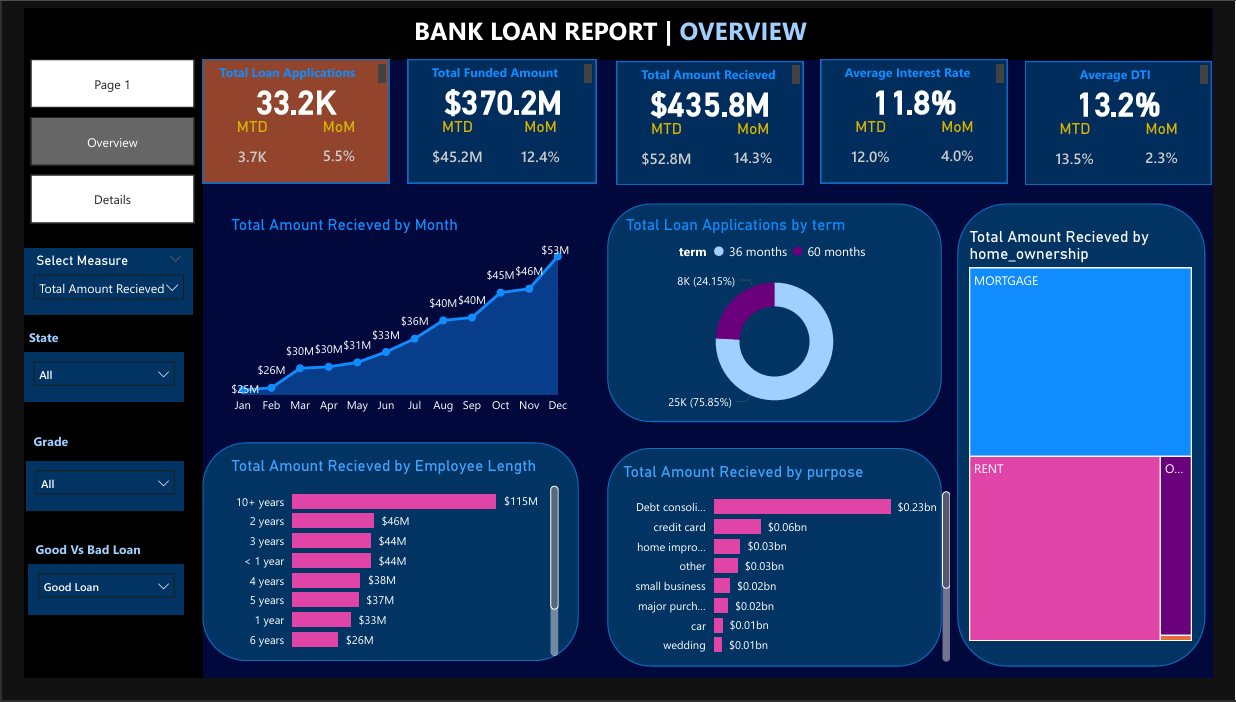

This screenshot's page, from the dashboard's own definition file:
{"tool":"powerbi","page":{"name":"Overview","canvas":[1280,720],"ordinal":1},"visuals":[{"type":"shape","box":[0,55.3,192,665.3],"z":0},{"type":"shape","box":[192,55.3,201.2,133],"z":0,"group":"g1"},{"type":"shape","box":[413.3,55.3,202.9,133],"z":0,"group":"g2"},{"type":"shape","box":[858.6,55.3,201.2,133],"z":0,"group":"g4"},{"type":"shape","box":[638.6,57,201.2,133],"z":0,"group":"g3"},{"type":"shape","box":[1078.6,57,201.2,133],"z":0,"group":"g5"},{"type":"shape","box":[0,0,1279.4,54.8],"z":1000},{"type":"card","fields":{"Values":["financial_loan (1).Total Loan Applicationa"]},"box":[191.7,55,201.3,86.4],"z":1000,"group":"g1"},{"type":"card","fields":{"Values":["financial_loan (1).Avg Intrest RATE"]},"box":[858.3,55,201.3,86.4],"z":1000,"group":"g4"},{"type":"card","fields":{"Values":["financial_loan (1).Total Funded Amount"]},"box":[416.4,56.2,198.8,85],"z":1000,"group":"g2"},{"type":"card","fields":{"Values":["financial_loan (1).Total Amount Recieved"]},"box":[638.3,56.7,201.3,86.4],"z":1000,"group":"g3"},{"type":"card","fields":{"Values":["financial_loan (1).Avg dti"]},"box":[1078.3,56.7,201.3,86.4],"z":1000,"group":"g5"},{"type":"textbox","box":[415,0,618.3,55],"z":2000},{"type":"textbox","box":[192,55,201.3,29.9],"z":2000,"group":"g1"},{"type":"textbox","box":[413.4,55,203.1,29.9],"z":2000,"group":"g2"},{"type":"textbox","box":[858.6,55,201.3,29.9],"z":2000,"group":"g4"},{"type":"textbox","box":[638.6,56.7,201.3,29.9],"z":2000,"group":"g3"},{"type":"textbox","box":[1078.6,56.7,201.3,29.9],"z":2000,"group":"g5"},{"type":"group","id":"g1","title":"Group 1","box":[191.7,55,201.7,133.3],"z":3000},{"type":"card","title":"MTD","fields":{"Values":["financial_loan (1).MTD Loan Applications"]},"box":[192.2,116.5,105.5,71.5],"z":3000,"group":"g1"},{"type":"card","title":"MTD","fields":{"Values":["financial_loan (1).MTD Funded Amount"]},"box":[413.6,116.5,106.4,71.5],"z":3000,"group":"g2"},{"type":"card","title":"MTD","fields":{"Values":["financial_loan (1).MTD Avg Intrest rate"]},"box":[858.8,116.5,105.5,71.5],"z":3000,"group":"g4"},{"type":"card","title":"MTD","fields":{"Values":["financial_loan (1).MTD Total Amount Recieved"]},"box":[638.8,118.2,105.5,71.5],"z":3000,"group":"g3"},{"type":"card","title":"MTD","fields":{"Values":["financial_loan (1).MTD Avg dti"]},"box":[1078.8,118.2,105.5,71.5],"z":3000,"group":"g5"},{"type":"group","id":"g2","title":"Group 1","box":[413.3,55,203.3,133.3],"z":4000},{"type":"card","title":"MoM","fields":{"Values":["financial_loan (1).MoM Loan Aplications"]},"box":[303.9,116.7,70,68.3],"z":4000,"group":"g1"},{"type":"card","title":"MoM","fields":{"Values":["financial_loan (1).MoM Funded Amount"]},"box":[520.3,116.7,71.7,71.7],"z":4000,"group":"g2"},{"type":"card","title":"MoM","fields":{"Values":["financial_loan (1).MoM Avg Intrest rate"]},"box":[970.5,116.7,70,68.3],"z":4000,"group":"g4"},{"type":"card","title":"MoM","fields":{"Values":["financial_loan (1).MoM Total Amount Recieved"]},"box":[750.5,118.4,70,68.3],"z":4000,"group":"g3"},{"type":"card","title":"MoM","fields":{"Values":["financial_loan (1).MoM Avg dti"]},"box":[1190.5,118.4,70,68.3],"z":4000,"group":"g5"},{"type":"shape","box":[191.7,466.7,405,235],"z":5000},{"type":"group","id":"g3","title":"Group 1","box":[638.3,56.7,203.3,133.3],"z":6000},{"type":"group","id":"g4","title":"Group 1","box":[858.3,55,200,133.3],"z":7000},{"type":"group","id":"g5","title":"Group 1","box":[1078.3,56.7,201.7,133.3],"z":8000},{"type":"slicer","fields":{"Values":["financial_loan (1).address_state"]},"box":[0,370,171.7,53.3],"z":9000},{"type":"textbox","box":[0,340,171.7,30],"z":10000},{"type":"slicer","fields":{"Values":["financial_loan (1).grade"]},"box":[1.7,486.7,170,53.3],"z":11000},{"type":"slicer","fields":{"Values":["financial_loan (1).Good vs Bad Loan"]},"box":[5,598.3,166.7,53.3],"z":12000},{"type":"textbox","box":[6.7,568.3,171.7,30],"z":13000},{"type":"textbox","box":[5,451.7,171.7,30],"z":14000},{"type":"areaChart","fields":{"Category":["Date Table.Month"],"Y":["financial_loan (1).Total Amount Recieved"]},"box":[218.3,221.7,373.3,223.3],"z":15000},{"type":"slicer","fields":{"Values":["Select Measure.Select Measure"]},"box":[0,258.3,181.7,71.7],"z":16000},{"type":"shape","box":[628.3,210,360,235],"z":17000},{"type":"donutChart","fields":{"Category":["financial_loan (1).term"],"Y":["financial_loan (1).Total Loan Applications"]},"box":[643.3,221.7,330,223.3],"z":18000},{"type":"barChart","fields":{"Category":["financial_loan (1).emp_length"],"Y":["financial_loan (1).Total Amount Recieved"]},"box":[218.3,481.7,361.7,220],"z":19000},{"type":"shape","box":[628.3,473.3,360,235],"z":20000},{"type":"shape","box":[1005,210,266.7,498.3],"z":21000},{"type":"barChart","fields":{"Y":["financial_loan (1).Total Amount Recieved"],"Category":["financial_loan (1).purpose"]},"box":[640,488.3,361.7,220],"z":22000},{"type":"treemap","fields":{"Group":["financial_loan (1).home_ownership"],"Values":["financial_loan (1).Total Amount Recieved"]},"box":[1013.3,235,248.3,450],"z":23000},{"type":"pageNavigator","box":[6.7,55,176.7,176.7],"z":23001}]}

Visuals, with their boxes in screenshot pixels (x1, y1, x2, y2), scaled from the page's 1280x720 canvas onto the 1236x702 screenshot:
shape: bbox(0, 54, 185, 701)
shape: bbox(185, 54, 380, 184)
shape: bbox(399, 54, 595, 184)
shape: bbox(829, 54, 1023, 184)
shape: bbox(617, 56, 811, 185)
shape: bbox(1042, 56, 1235, 185)
shape: bbox(0, 0, 1235, 53)
card - financial_loan (1).Total Loan Applicationa: bbox(185, 54, 379, 138)
card - financial_loan (1).Avg Intrest RATE: bbox(829, 54, 1023, 138)
card - financial_loan (1).Total Funded Amount: bbox(402, 55, 594, 138)
card - financial_loan (1).Total Amount Recieved: bbox(616, 55, 811, 140)
card - financial_loan (1).Avg dti: bbox(1041, 55, 1235, 140)
textbox: bbox(401, 0, 998, 54)
textbox: bbox(185, 54, 380, 83)
textbox: bbox(399, 54, 595, 83)
textbox: bbox(829, 54, 1023, 83)
textbox: bbox(617, 55, 811, 84)
textbox: bbox(1042, 55, 1235, 84)
"Group 1" group: bbox(185, 54, 380, 184)
"MTD" card: bbox(186, 114, 287, 183)
"MTD" card: bbox(399, 114, 502, 183)
"MTD" card: bbox(829, 114, 931, 183)
"MTD" card: bbox(617, 115, 719, 185)
"MTD" card: bbox(1042, 115, 1144, 185)
"Group 1" group: bbox(399, 54, 595, 184)
"MoM" card: bbox(293, 114, 361, 180)
"MoM" card: bbox(502, 114, 572, 184)
"MoM" card: bbox(937, 114, 1005, 180)
"MoM" card: bbox(725, 115, 792, 182)
"MoM" card: bbox(1150, 115, 1217, 182)
shape: bbox(185, 455, 576, 684)
"Group 1" group: bbox(616, 55, 813, 185)
"Group 1" group: bbox(829, 54, 1022, 184)
"Group 1" group: bbox(1041, 55, 1235, 185)
slicer - financial_loan (1).address_state: bbox(0, 361, 166, 413)
textbox: bbox(0, 332, 166, 361)
slicer - financial_loan (1).grade: bbox(2, 475, 166, 526)
slicer - financial_loan (1).Good vs Bad Loan: bbox(5, 583, 166, 635)
textbox: bbox(6, 554, 172, 583)
textbox: bbox(5, 440, 171, 470)
areaChart - Date Table.Month x financial_loan (1).Total Amount Recieved: bbox(211, 216, 571, 434)
slicer - Select Measure.Select Measure: bbox(0, 252, 175, 322)
shape: bbox(607, 205, 954, 434)
donutChart - financial_loan (1).term x financial_loan (1).Total Loan Applications: bbox(621, 216, 940, 434)
barChart - financial_loan (1).emp_length x financial_loan (1).Total Amount Recieved: bbox(211, 470, 560, 684)
shape: bbox(607, 461, 954, 691)
shape: bbox(970, 205, 1228, 691)
barChart - financial_loan (1).Total Amount Recieved x financial_loan (1).purpose: bbox(618, 476, 967, 691)
treemap - financial_loan (1).home_ownership x financial_loan (1).Total Amount Recieved: bbox(978, 229, 1218, 668)
pageNavigator: bbox(6, 54, 177, 226)
